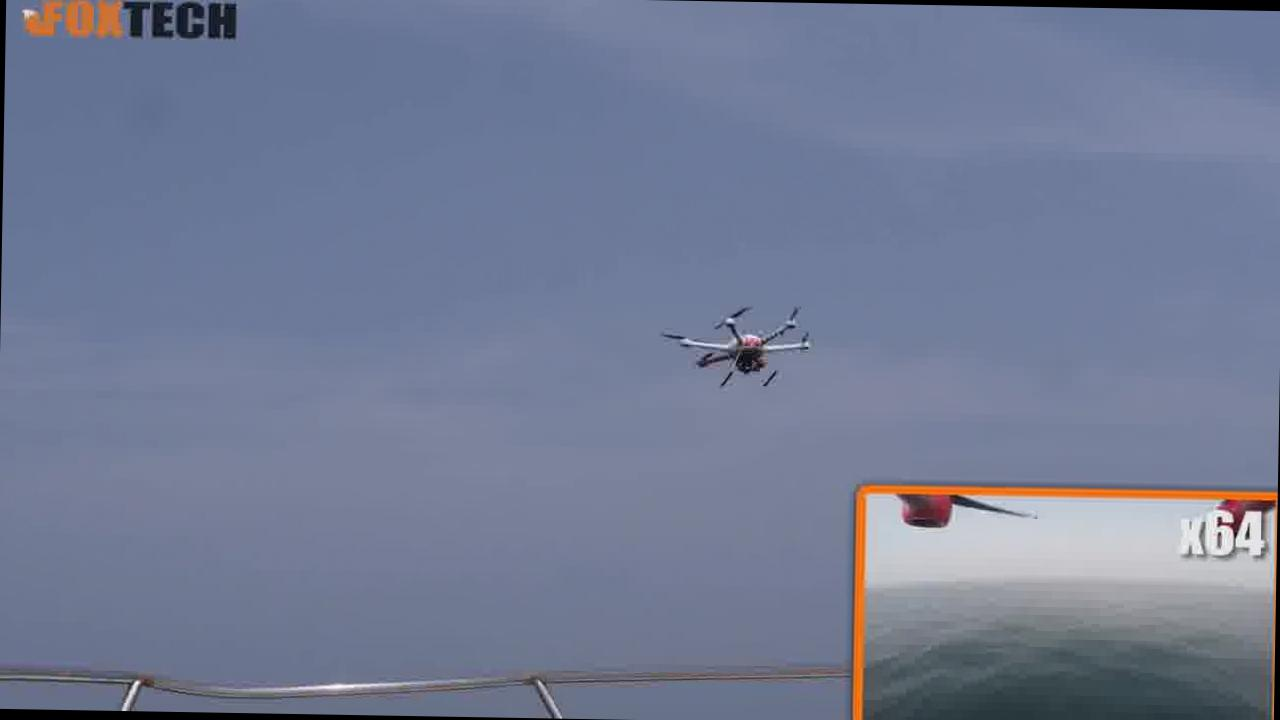drone: (658, 292, 832, 404)
